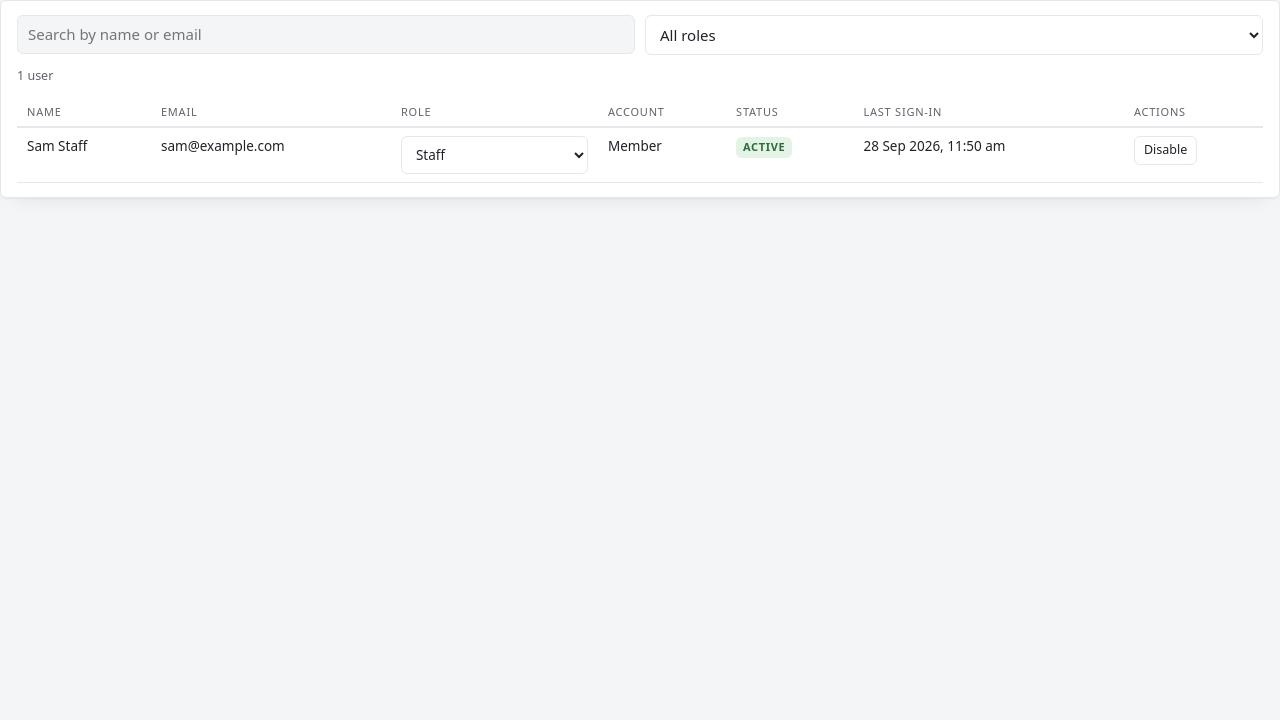
Test: UsersPage problems › shows the 412 text and reloads the list
Click the button with aria-label "Disable Sam Staff". click: [1166, 151]
box: [1134,136,1197,165]
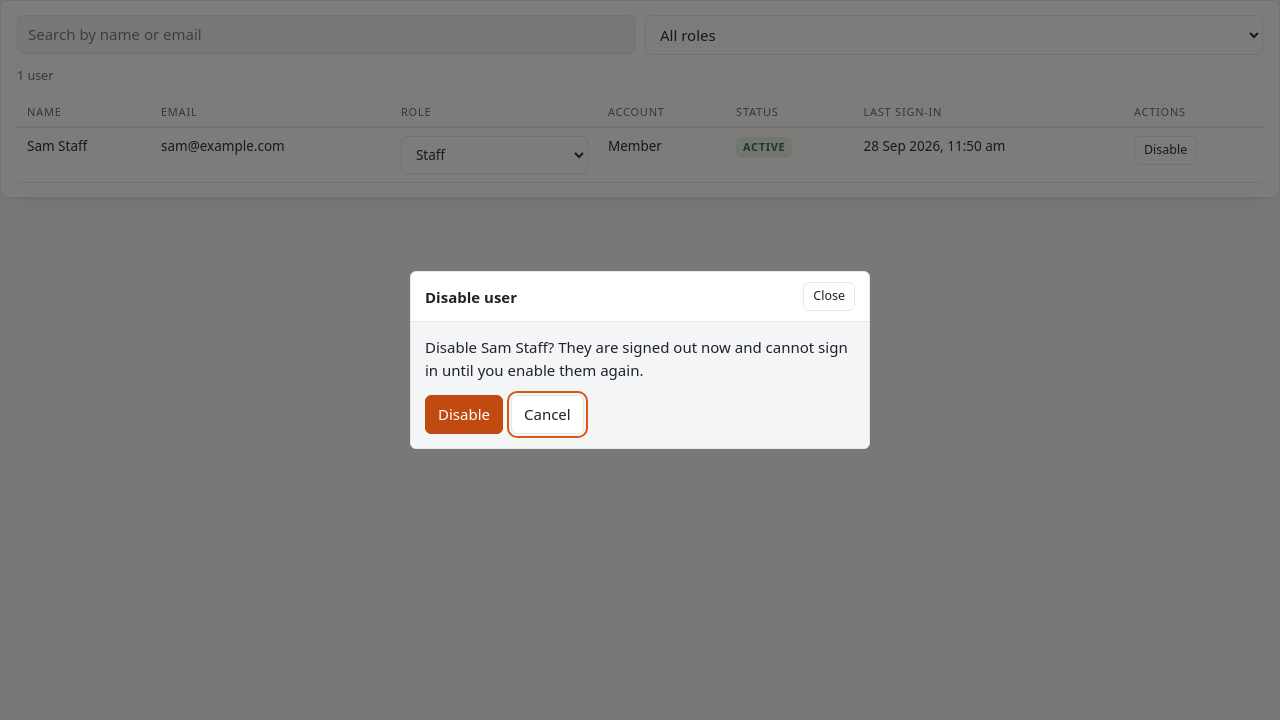
Click the button "Disable". click: [464, 414]
box: [425,395,503,434]
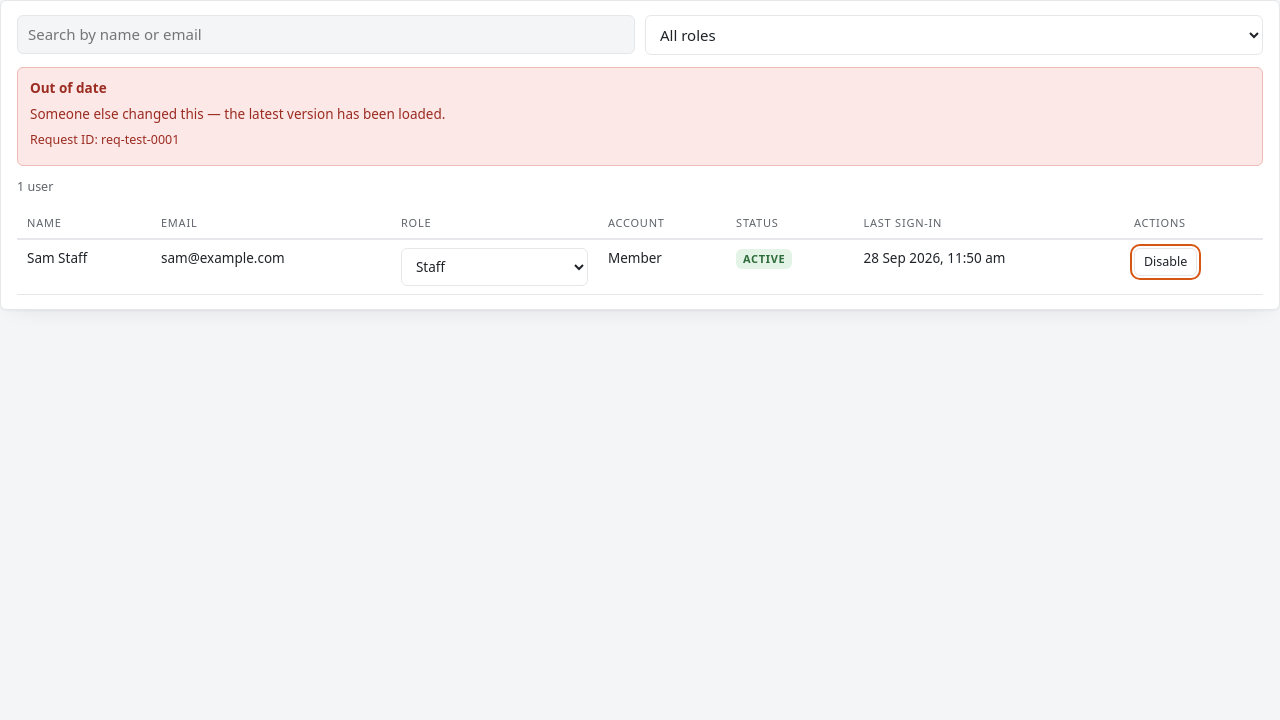
Expected: the message that starts with "Out of date" shows "Someone else changed this", [30,105,445,123]
